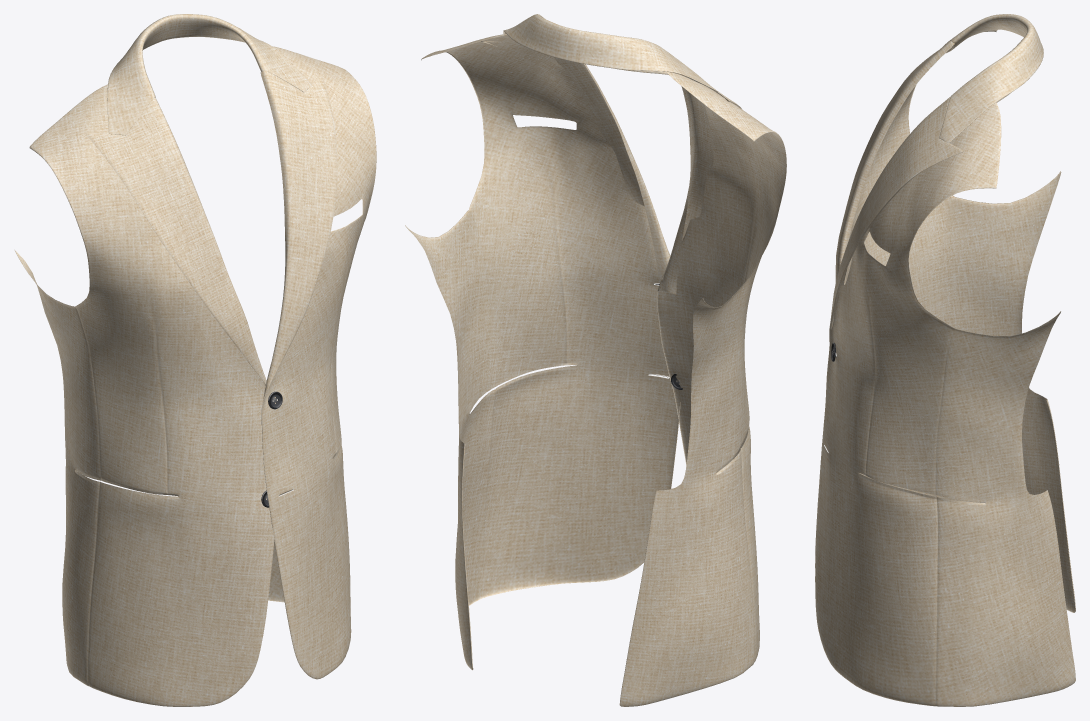
The model's file is withcollarpeakdouble.glb.
3 renders of one model, left to right at view 1: azimuth 30°, elevation 25°; view 2: azimuth 150°, elevation 25°; view 3: azimuth 270°, elevation 25°, orthographic. The views are drawn at different scales.
Visible parts, largest first — view 1: Peak_Double_Button, Peak_Collor; view 2: Peak_Double_Button, Peak_Collor; view 3: Peak_Double_Button, Peak_Collor.
Boxes of the visible parts, x1,y1,x2,y2 form: Peak_Double_Button: (14, 46, 376, 706); Peak_Collor: (107, 14, 311, 135); Peak_Double_Button: (405, 34, 786, 706); Peak_Collor: (503, 14, 717, 91); Peak_Double_Button: (815, 29, 1075, 706); Peak_Collor: (939, 14, 1043, 143).
Bounding box in the file's own units: 0.0585 × 0.108 × 0.0411.
Materials: 5 (4 with a texture image).
